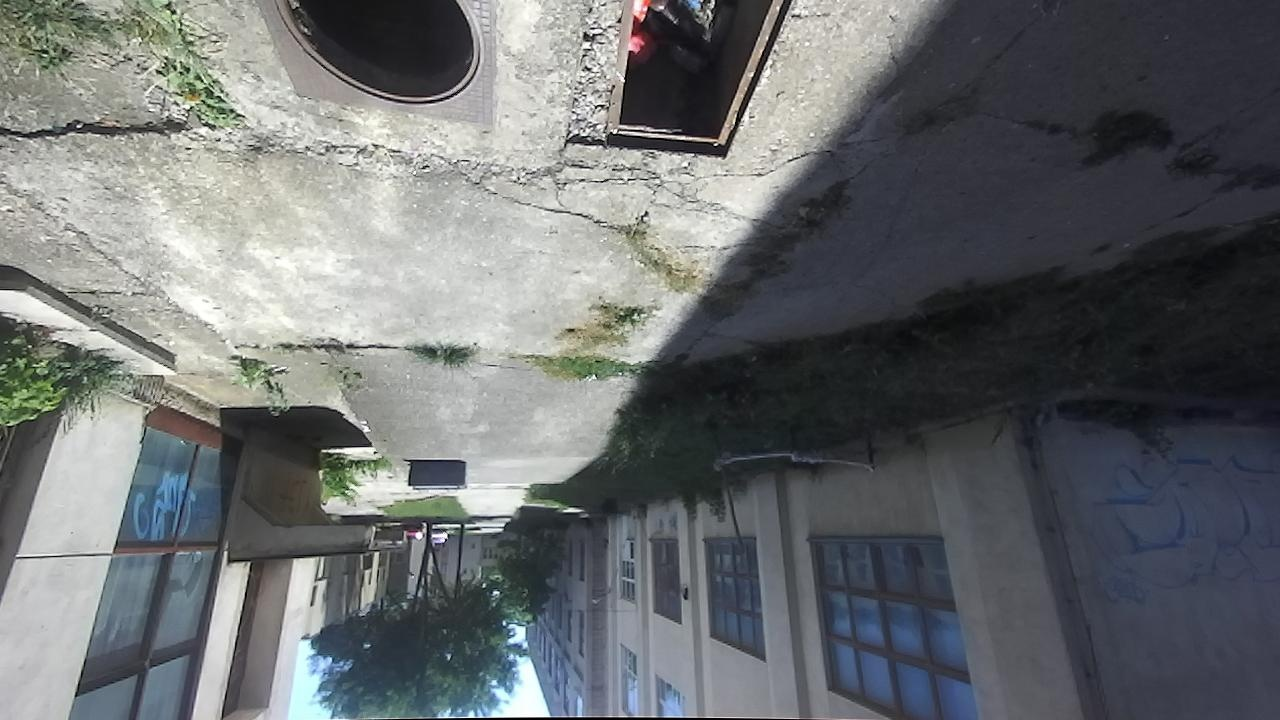drain: (598, 0, 799, 158), (276, 0, 488, 117)
